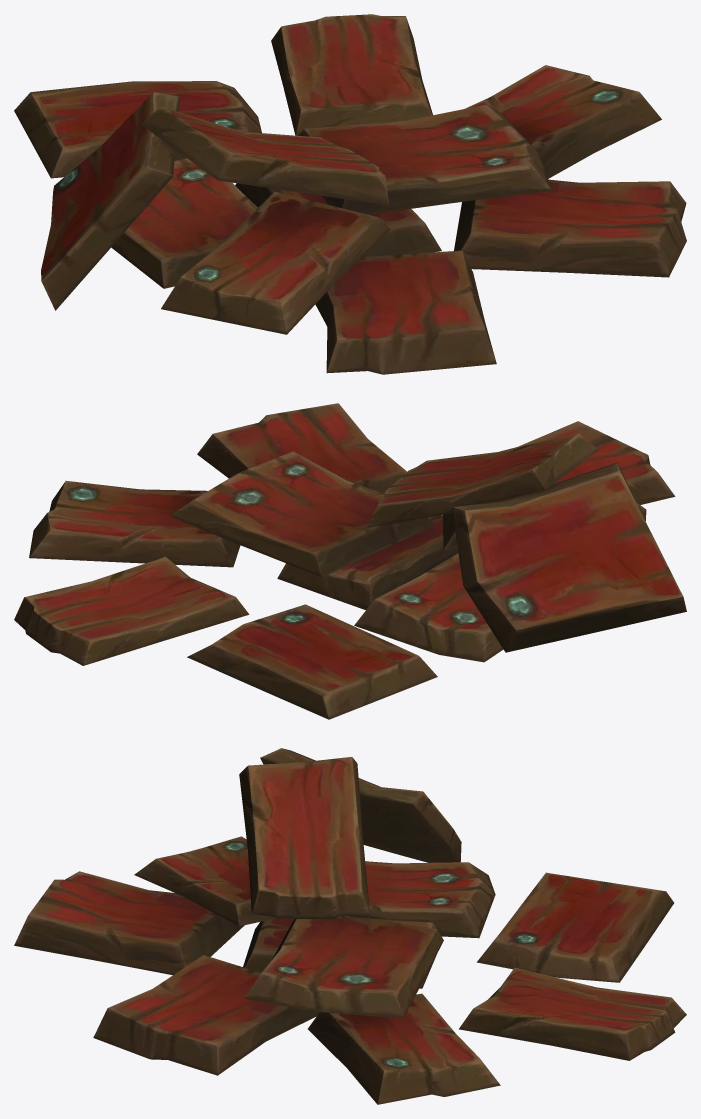
3 renders of one model, top to bottom at view 1: azimuth 30°, elevation 25°; view 2: azimuth 150°, elevation 25°; view 3: azimuth 270°, elevation 25°, orthographic. The views are drawn at different scales.
Bounding box in the file's own units: 5.38 × 1.17 × 5.49.
Materials: 1 (1 with a texture image).
